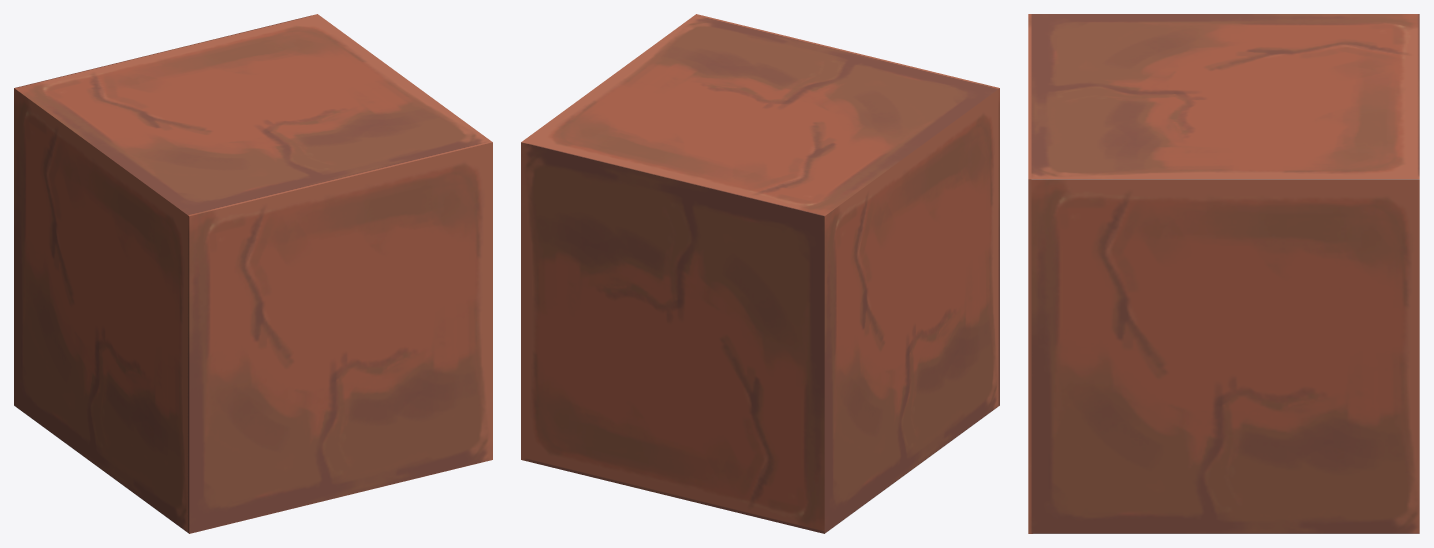
3 renders of one model, left to right at view 1: azimuth 30°, elevation 25°; view 2: azimuth 150°, elevation 25°; view 3: azimuth 270°, elevation 25°, orthographic. The views are drawn at different scales.
Parts seen in each view (by area): view 1: pCube1; view 2: pCube1; view 3: pCube1.
Boxes of the visible parts, x1,y1,x2,y2 form: pCube1: (14,14,492,533); pCube1: (521,14,999,533); pCube1: (1028,14,1419,533).
Bounding box in the file's own units: 1 × 1 × 1.
1 material, 1 textured.
